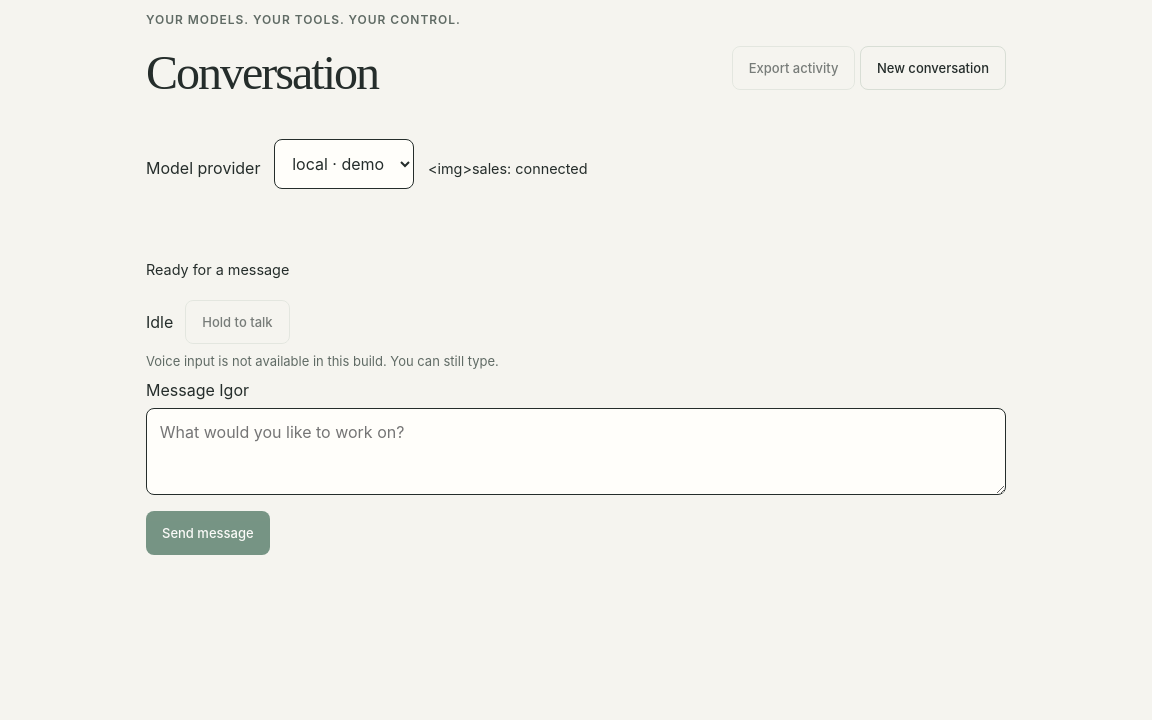
shows pushed connection changes literally and refreshes status immediately, without polling
Type "Hello" into the text box with id "message".
click(576, 452); type("Hello")  # box [146,408,1006,495]
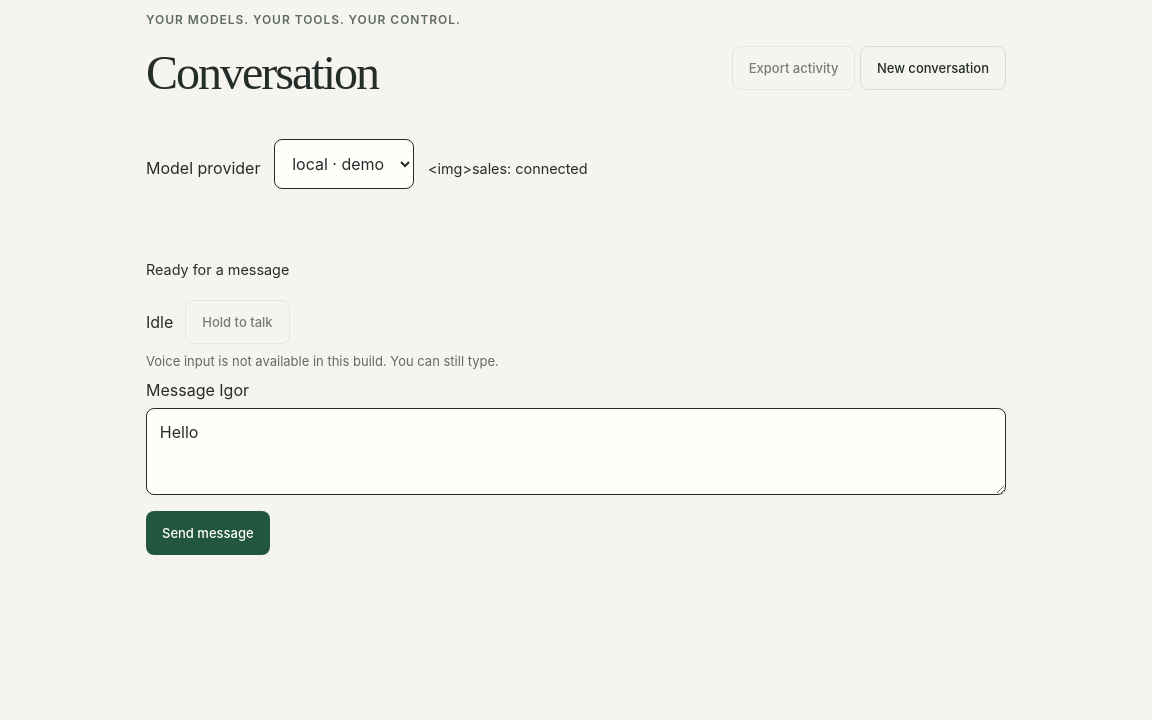
Submit the form, box [146,380,1006,555]
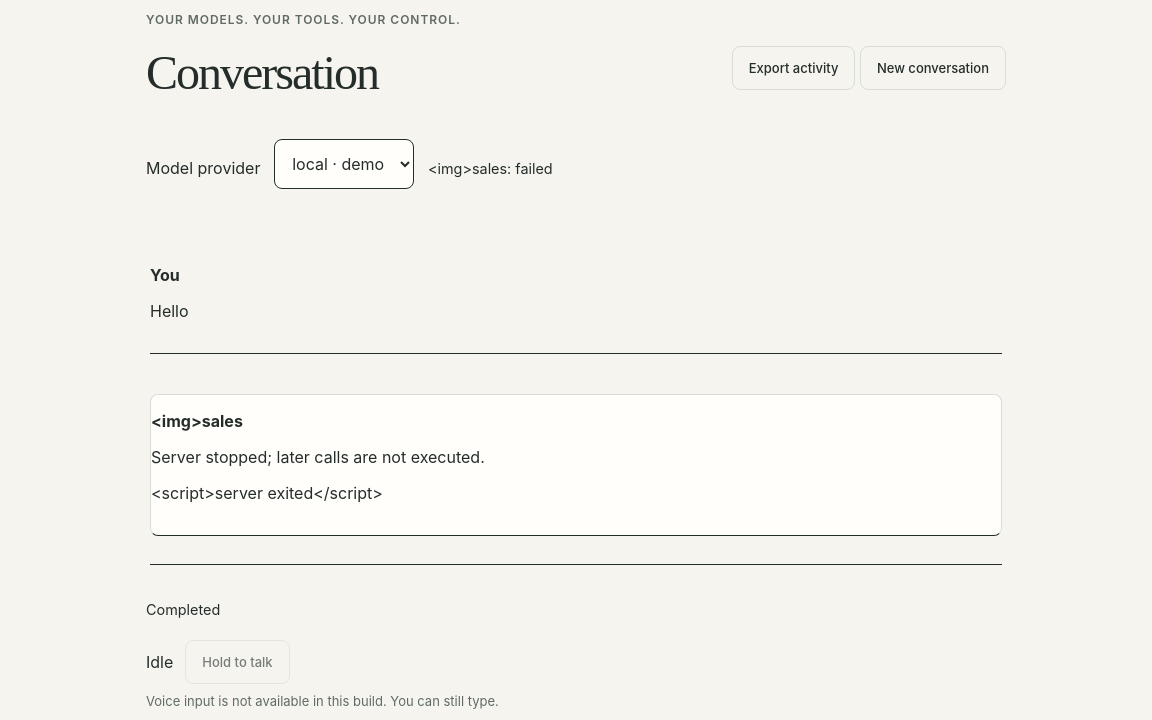
Expected: the list with class "connection-events" shows "later calls are not executed", [151,447,485,467]
Expected: the element with class "conversation-servers" shows "failed", [428,160,553,177]
